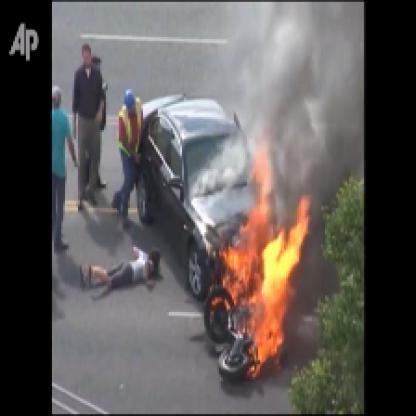Fire: (201, 122, 310, 384)
Smoke: (251, 2, 362, 167)
